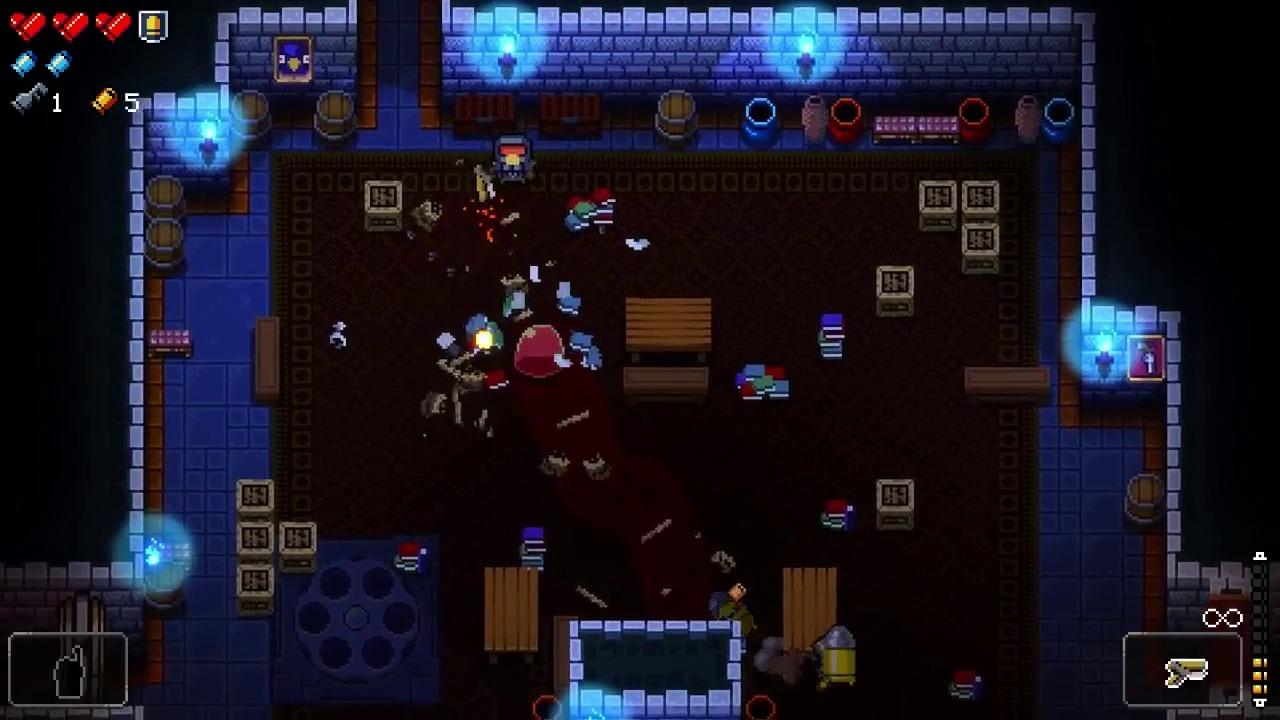blobulon_l: (514, 323, 564, 379)
bullet_kin: (823, 624, 856, 685)
player: (493, 135, 535, 186)
table: (625, 298, 711, 364), (782, 568, 837, 669), (484, 568, 540, 664)
teleporter: (267, 541, 442, 705)
